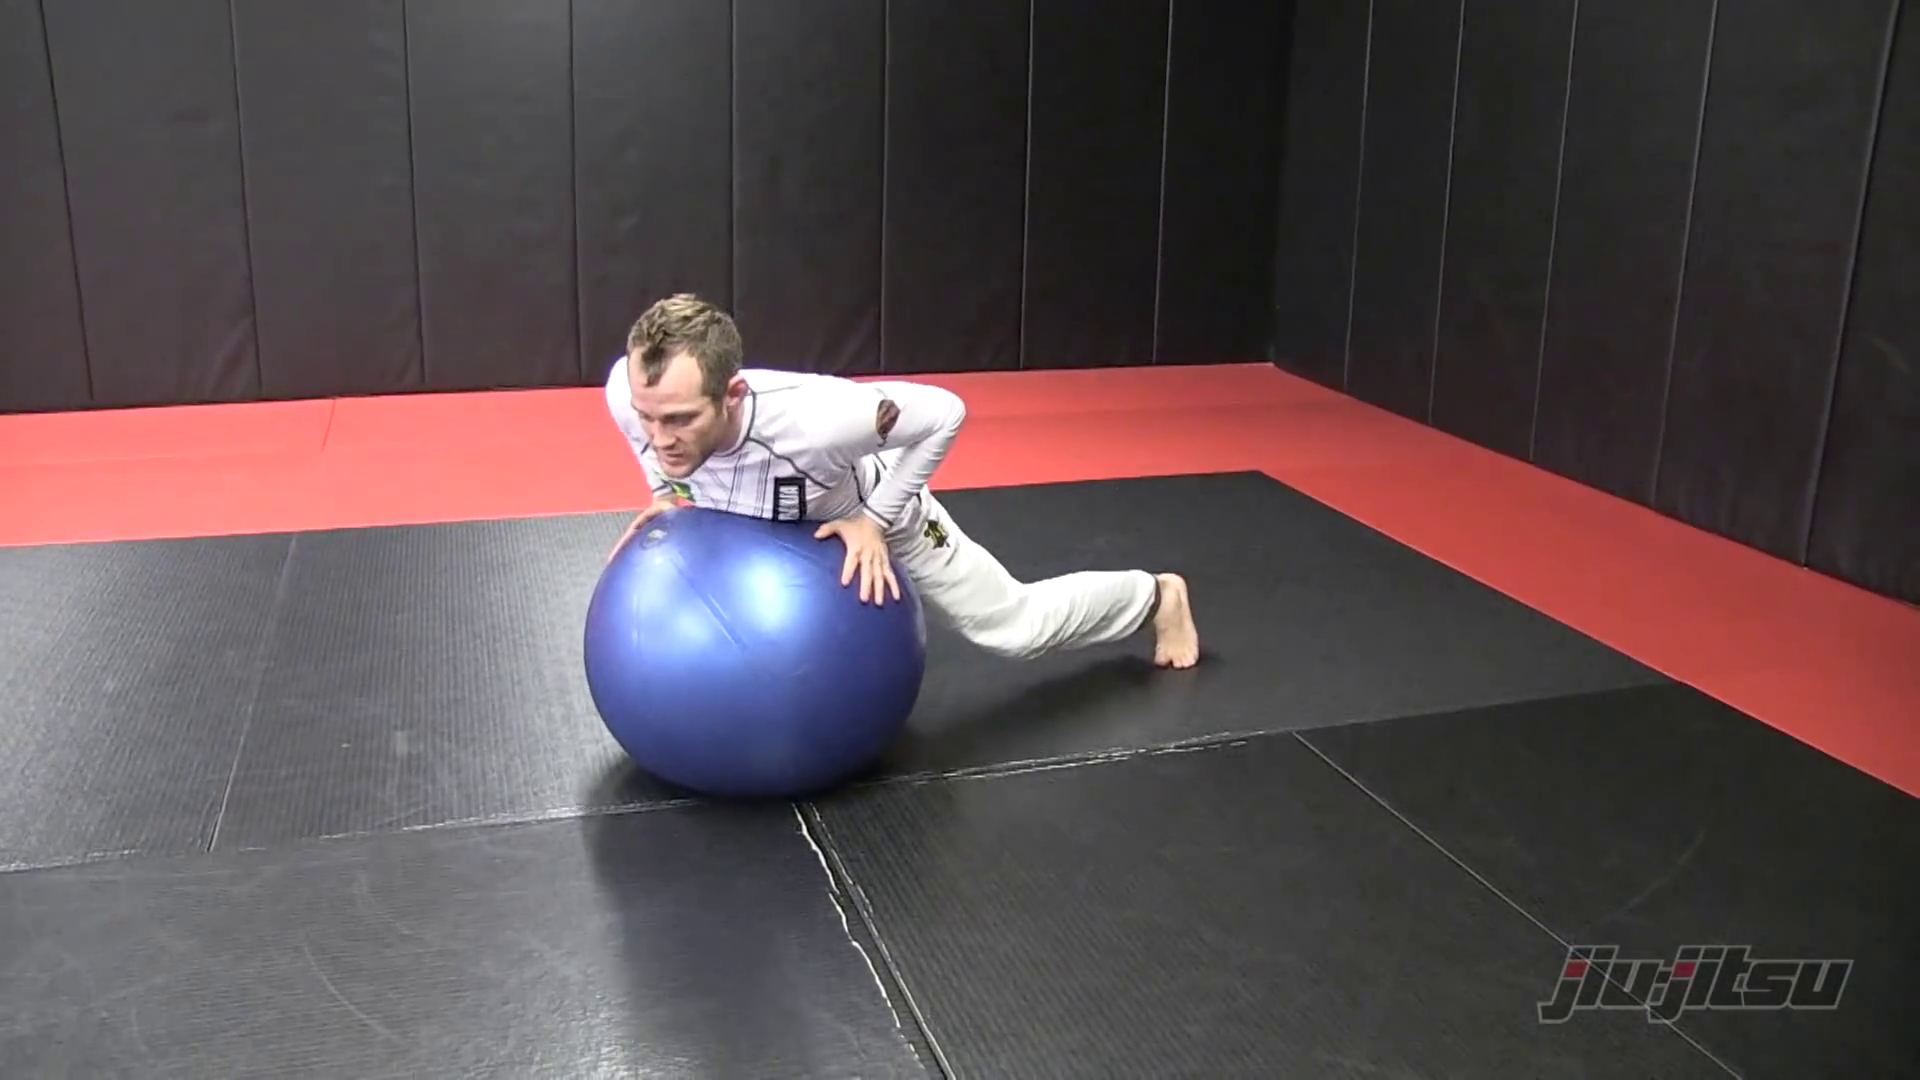yogaball: (556, 492, 949, 814)
